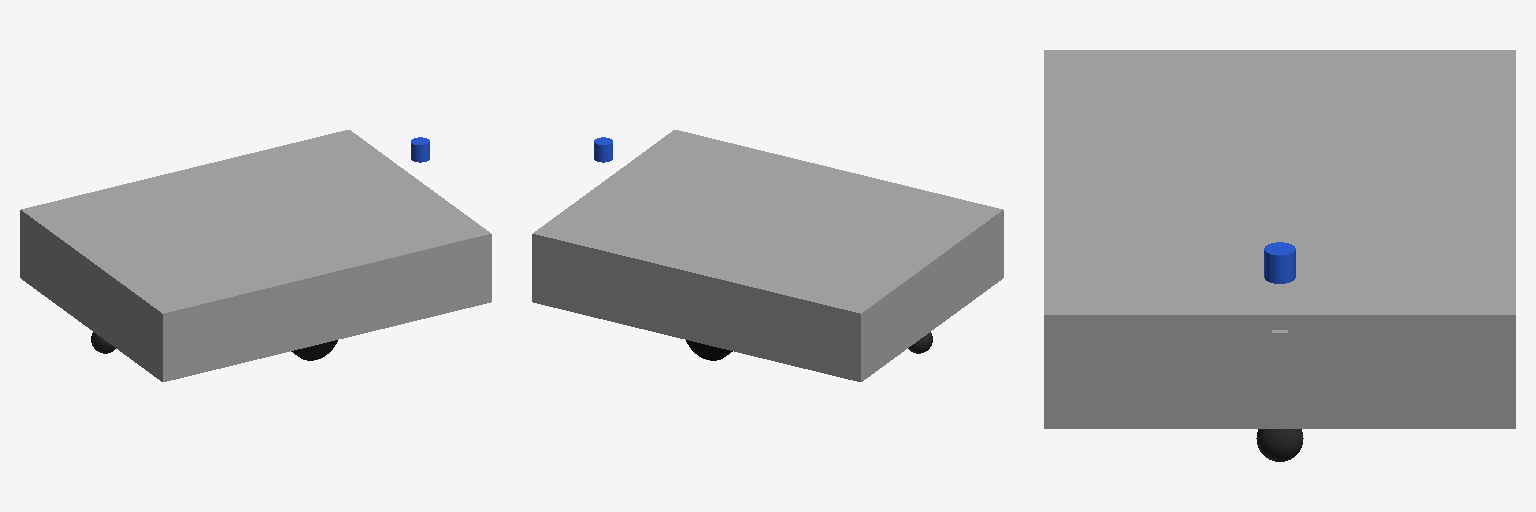
robot.urdf — clean_robot:
<?xml version="1.0"?>
<robot name="clean_robot">

  <!-- ===================== Frames ===================== -->
  <!-- Root at ground projection (no inertia/collision) -->
  <link name="base_footprint"/>

  <!-- Base link at wheel axle height -->
  <joint name="base_footprint_to_base_link" type="fixed">
    <!-- wheel radius = 0.09m (since wheel diameter 0.18m) -->
    <origin xyz="0 0 0.09" rpy="0 0 0"/>
    <parent link="base_footprint"/>
    <child link="base_link"/>
  </joint>

  <!-- ===================== base_link ===================== -->
  <link name="base_link">
    <!-- Reasonable inertial (approx) -->
    <inertial>
      <origin xyz="0 0 0.12" rpy="0 0 0"/>
      <mass value="30.0"/>
      <inertia ixx="1.0" ixy="0" ixz="0" iyy="2.0" iyz="0" izz="3.0"/>
    </inertial>

    <!-- Visual: simple chassis box -->
    <visual name="base_visual">
      <origin xyz="0 0 0.12" rpy="0 0 0"/>
      <geometry>
        <!-- length x width x height (m) -->
        <box size="1.20 0.90 0.24"/>
      </geometry>
      <material name="gray">
        <color rgba="0.7 0.7 0.7 1.0"/>
      </material>
    </visual>

    <!-- Collision: same as visual (keeps robot from falling through) -->
    <collision name="base_collision">
      <origin xyz="0 0 0.12" rpy="0 0 0"/>
      <geometry>
        <box size="1.20 0.90 0.24"/>
      </geometry>
    </collision>
  </link>

  <!-- ===================== Wheels ===================== -->
  <!-- Parameters (hard-coded): -->
  <!-- wheel radius 0.09m (diameter 0.18m) -->
  <!-- wheel separation default 0.7105m (can tune if needed) -->

  <link name="left_wheel_link">
    <inertial>
      <origin xyz="0 0 0" rpy="0 0 0"/>
      <mass value="1.0"/>
      <inertia ixx="0.01" ixy="0" ixz="0" iyy="0.01" iyz="0" izz="0.01"/>
    </inertial>

    <!-- Cylinder axis is Z by default, rotate so axis aligns with Y -->
    <visual name="left_wheel_visual">
      <origin xyz="0 0 0" rpy="1.5708 0 0"/>
      <geometry>
        <cylinder radius="0.09" length="0.05"/>
      </geometry>
      <material name="black">
        <color rgba="0.1 0.1 0.1 1.0"/>
      </material>
    </visual>

    <collision name="left_wheel_collision">
      <origin xyz="0 0 0" rpy="1.5708 0 0"/>
      <geometry>
        <cylinder radius="0.09" length="0.05"/>
      </geometry>
    </collision>
  </link>

  <joint name="left_wheel_joint" type="continuous">
    <!-- wheel center relative to base_link (at axle height) -->
    <origin xyz="0 0.35525 0" rpy="0 0 0"/>
    <parent link="base_link"/>
    <child link="left_wheel_link"/>
    <axis xyz="0 1 0"/>
    <limit effort="50" velocity="50"/>
  </joint>

  <link name="right_wheel_link">
    <inertial>
      <origin xyz="0 0 0" rpy="0 0 0"/>
      <mass value="1.0"/>
      <inertia ixx="0.01" ixy="0" ixz="0" iyy="0.01" iyz="0" izz="0.01"/>
    </inertial>

    <visual name="right_wheel_visual">
      <origin xyz="0 0 0" rpy="1.5708 0 0"/>
      <geometry>
        <cylinder radius="0.09" length="0.05"/>
      </geometry>
      <material name="black"/>
    </visual>

    <collision name="right_wheel_collision">
      <origin xyz="0 0 0" rpy="1.5708 0 0"/>
      <geometry>
        <cylinder radius="0.09" length="0.05"/>
      </geometry>
    </collision>
  </link>

  <joint name="right_wheel_joint" type="continuous">
    <origin xyz="0 -0.35525 0" rpy="0 0 0"/>
    <parent link="base_link"/>
    <child link="right_wheel_link"/>
    <axis xyz="0 1 0"/>
    <limit effort="50" velocity="50"/>
  </joint>
 
   <!-- ===================== Casters (front & rear) ===================== -->
  <!-- base_link 在轮轴高度；地面在 base_link 的 z = -0.09 -->
  <!-- 万向轮用球：半径 0.03m，球心放在 z=-0.06，使其刚好接地 -->

  <link name="front_caster_link">
    <inertial>
      <origin xyz="0 0 0" rpy="0 0 0"/>
      <mass value="0.2"/>
      <inertia ixx="0.0002" ixy="0" ixz="0" iyy="0.0002" iyz="0" izz="0.0002"/>
    </inertial>
    <visual name="front_caster_visual">
      <origin xyz="0 0 0" rpy="0 0 0"/>
      <geometry>
        <sphere radius="0.045"/>
      </geometry>
      <material name="darkgray">
        <color rgba="0.2 0.2 0.2 1"/>
      </material>
    </visual>
    <collision name="front_caster_collision">
      <origin xyz="0 0 0" rpy="0 0 0"/>
      <geometry>
        <sphere radius="0.045"/>
      </geometry>
    </collision>
  </link>

  <joint name="front_caster_joint" type="fixed">
    <!-- 底盘长 1.2m，前缘约 x=+0.6；这里放在 x=+0.55，居中 y=0 -->
    <origin xyz="0.55 0.0 -0.043" rpy="0 0 0"/>
    <parent link="base_link"/>
    <child link="front_caster_link"/>
  </joint>

  <link name="rear_caster_link">
    <inertial>
      <origin xyz="0 0 0" rpy="0 0 0"/>
      <mass value="0.2"/>
      <inertia ixx="0.0002" ixy="0" ixz="0" iyy="0.0002" iyz="0" izz="0.0002"/>
    </inertial>
    <visual name="rear_caster_visual">
      <origin xyz="0 0 0" rpy="0 0 0"/>
      <geometry>
        <sphere radius="0.045"/>
      </geometry>
      <material name="darkgray"/>
    </visual>
    <collision name="rear_caster_collision">
      <origin xyz="0 0 0" rpy="0 0 0"/>
      <geometry>
        <sphere radius="0.045"/>
      </geometry>
    </collision>
  </link>

  <joint name="rear_caster_joint" type="fixed">
    <!-- 后缘约 x=-0.6；这里放在 x=-0.55 -->
    <origin xyz="-0.55 0.0 -0.043" rpy="0 0 0"/>
    <parent link="base_link"/>
    <child link="rear_caster_link"/>
  </joint>



  <!-- ===================== Laser link (only this one publishes /scan) ===================== -->
  <link name="laser_link">
    <inertial>
      <origin xyz="0 0 0" rpy="0 0 0"/>
      <mass value="0.2"/>
      <inertia ixx="0.001" ixy="0" ixz="0" iyy="0.001" iyz="0" izz="0.001"/>
    </inertial>

    <visual name="laser_visual">
      <origin xyz="0 0 0" rpy="0 0 0"/>
      <geometry>
        <cylinder radius="0.03" length="0.06"/>
      </geometry>
      <material name="blue">
        <color rgba="0.2 0.4 0.9 1.0"/>
      </material>
    </visual>

    <collision name="laser_collision">
      <origin xyz="0 0 0" rpy="0 0 0"/>
      <geometry>
        <cylinder radius="0.03" length="0.06"/>
      </geometry>
    </collision>
  </link>

  <joint name="laser_joint" type="fixed">
    <!-- mount point: front-top of chassis -->
    <origin xyz="0.60 0 0.35" rpy="0 0 0"/>
    <parent link="base_link"/>
    <child link="laser_link"/>
  </joint>
  <!-- ===================== IMU ===================== -->
  <link name="imu_link">
    <inertial>
      <origin xyz="0 0 0" rpy="0 0 0"/>
      <mass value="0.05"/>
      <inertia ixx="1e-5" ixy="0" ixz="0" iyy="1e-5" iyz="0" izz="1e-5"/>
    </inertial>
    <visual>
      <origin xyz="0 0 0" rpy="0 0 0"/>
      <geometry>
        <box size="0.03 0.03 0.02"/>
      </geometry>
    </visual>
    <collision>
      <origin xyz="0 0 0" rpy="0 0 0"/>
      <geometry>
        <box size="0.03 0.03 0.02"/>
      </geometry>
    </collision>
  </link>

  <!-- IMU 位置：激光正下方 0.15m -->
  <joint name="imu_joint" type="fixed">
    <origin xyz="0 0 -0.15" rpy="0 0 0"/>
    <parent link="laser_link"/>
    <child link="imu_link"/>
  </joint>
  <gazebo reference="imu_link">
    <sensor name="imu_sensor" type="imu">
      <always_on>true</always_on>
      <updateRateHZ>100</updateRateHZ>
      <visualize>false</visualize>
      <plugin name="imu_plugin" filename="libgazebo_ros_imu_sensor.so">
          <robotNamespace>/</robotNamespace>
          <topicName>imu/data</topicName>
          <frameName>imu_link</frameName>
          <updateRateHZ>100</updateRateHZ>
          <gaussianNoise>0.01</gaussianNoise>
      </plugin>

    </sensor>
  </gazebo>




  <!-- =========================================================
       Gazebo: wheel friction + diff drive + 2D lidar
       ========================================================= -->

  <!-- Wheel friction to help traction -->
  <gazebo reference="left_wheel_link">
    <mu1>1.0</mu1>
    <mu2>1.0</mu2>
  </gazebo>
  <gazebo reference="right_wheel_link">
    <mu1>1.0</mu1>
    <mu2>1.0</mu2>
  </gazebo>
  
  <gazebo reference="front_caster_link">
    <mu1>0.01</mu1>
    <mu2>0.01</mu2>
  </gazebo>

  <gazebo reference="rear_caster_link">
    <mu1>0.01</mu1>
    <mu2>0.01</mu2>
  </gazebo>


  <!-- DiffDrive: /cmd_vel -> wheels, publish /odom and TF -->
  <gazebo>
    <plugin name="diff_drive" filename="libgazebo_ros_diff_drive.so">
      <ros>
        <namespace>/</namespace>
      </ros>

      <leftJoint>left_wheel_joint</leftJoint>
      <rightJoint>right_wheel_joint</rightJoint>

      <!-- Default wheel separation = 0.7105m (tune if your real robot differs) -->
      <wheelSeparation>0.7105</wheelSeparation>

      <!-- Wheel diameter per your input -->
      <wheelDiameter>0.18</wheelDiameter>

      <wheelTorque>50</wheelTorque>
      <updateRate>20</updateRate>

      <commandTopic>cmd_vel</commandTopic>
      <odometryTopic>odom</odometryTopic>

      <odometryFrame>odom</odometryFrame>
      <robotBaseFrame>base_footprint</robotBaseFrame>

      <publishTf>true</publishTf>
      <publishWheelTF>false</publishWheelTF>

      <!-- publish joint_states so robot_state_publisher works -->
      <publishWheelJointState>true</publishWheelJointState>
      <jointStateTopic>joint_states</jointStateTopic>
    </plugin>
  </gazebo>

  <!-- 2D lidar on laser_link: /scan
       360deg, 720 points (0.5 deg), 10Hz, range 0.1~20m -->
<gazebo reference="laser_link">
  <sensor name="laser" type="ray">
    <pose>0 0 0 0 0 0</pose>
    <always_on>true</always_on>
    <update_rate>10</update_rate>
    <visualize>false</visualize>

    <ray>
      <scan>
        <horizontal>
          <samples>720</samples>
          <resolution>1</resolution>
          <min_angle>-3.1415926</min_angle>
          <max_angle>3.1415926</max_angle>
        </horizontal>
      </scan>

      <range>
        <min>0.10</min>
        <max>20.0</max>
        <resolution>0.01</resolution>
      </range>

      <noise>
        <type>gaussian</type>
        <mean>0.0</mean>
        <stddev>0.01</stddev>
      </noise>
    </ray>

    <!-- gazebo_ros_laser.so 的正确参数 -->
    <plugin name="gazebo_ros_laser" filename="libgazebo_ros_laser.so">
      <robotNamespace>/</robotNamespace>
      <topicName>scan</topicName>
      <frameName>laser_link</frameName>
    </plugin>
  </sensor>
</gazebo>

</robot>

--- Facts derived from the render (not from the file) ---
3 views of the same robot in one strip: view 1: azimuth 30°, elevation 25°; view 2: azimuth 150°, elevation 25°; view 3: azimuth 270°, elevation 25° (orthographic).
Robot: clean_robot — 8 links, 7 joints (2 continuous, 5 fixed); root link base_footprint; default pose: all joints at 0.
Visible links, largest first — view 1: base_link; view 2: base_link; view 3: base_link, front_caster_link, laser_link.
Boxes of the visible links, left/top/right/bottom form: base_link: left=20, top=130, right=491, bottom=381; base_link: left=532, top=130, right=1003, bottom=381; base_link: left=1044, top=50, right=1515, bottom=428; front_caster_link: left=1256, top=429, right=1303, bottom=461; laser_link: left=1264, top=242, right=1295, bottom=283.
Bounding box of the posed robot: 1.23 × 0.9 × 0.47 m (x, y, z).
Geometry: primitives only (box / cylinder / sphere), no mesh files.
